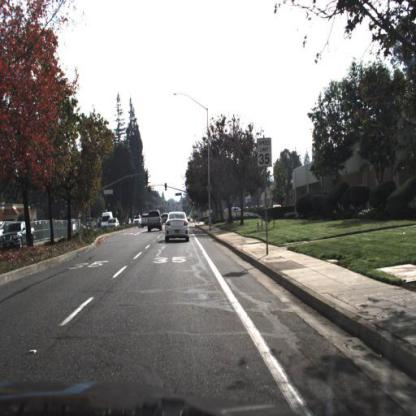car: (163, 211, 194, 245), (2, 223, 37, 250), (147, 207, 165, 234), (101, 212, 115, 235), (140, 210, 150, 231), (109, 218, 122, 233), (107, 218, 120, 229), (160, 211, 171, 224), (132, 214, 142, 226), (124, 217, 133, 225)
trafficLight-Green: (165, 182, 169, 192)
trafficLight-RedLeft: (148, 185, 153, 196)
truck: (100, 212, 113, 229)
